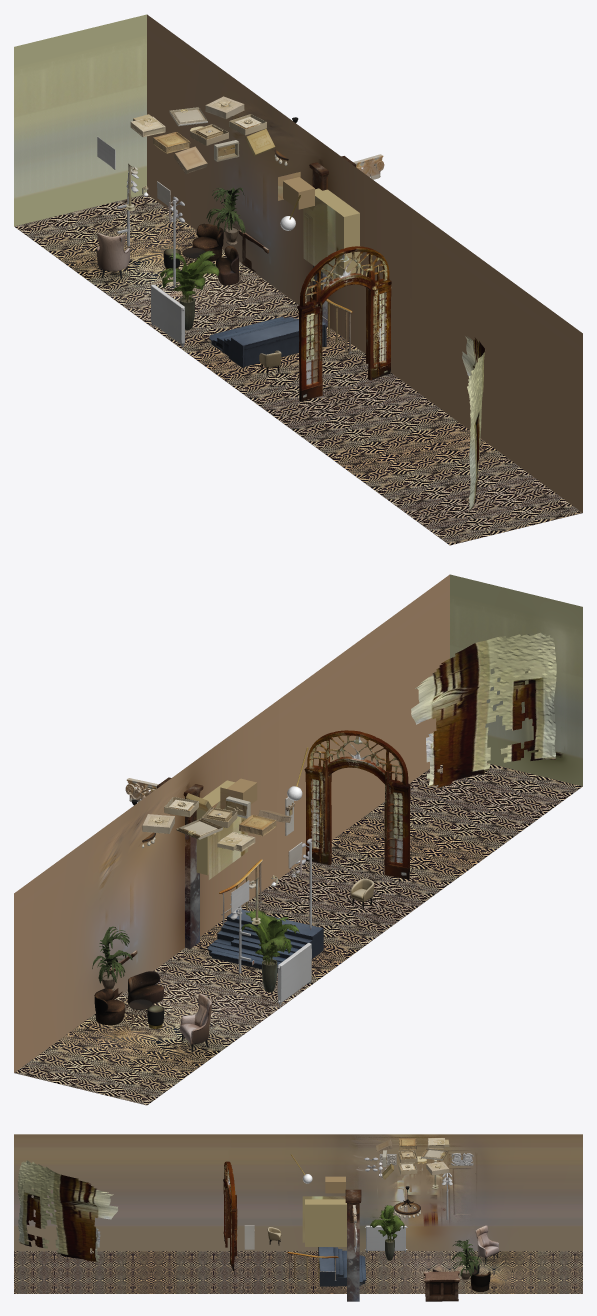
Rendered from scene_lite.glb.
3 renders of one model, top to bottom at view 1: azimuth 30°, elevation 25°; view 2: azimuth 150°, elevation 25°; view 3: azimuth 270°, elevation 25°, orthographic. The views are drawn at different scales.
Visible parts, largest first — view 1: room_wall_x_max, room_floor, room_wall_z_min, 027_mirror, 034_staircase, room_builtin_00_face, room_relief_00, 029_potted_plant, 030_radiator, room_builtin_00_body, 001_armchair, 028_plant (+4 smaller); view 2: room_wall_x_max, room_floor, room_relief_00, room_wall_z_max, 027_mirror, 034_staircase, 029_potted_plant, 043_wall_panel, 030_radiator, room_builtin_00_face, 028_plant, 001_armchair (+3 smaller); view 3: room_wall_x_min, room_floor, room_relief_00, room_builtin_00_body, 043_wall_panel, 034_staircase, 027_mirror, 022_console_table, 029_potted_plant, 030_radiator, 028_plant, 001_armchair (+9 smaller).
Boxes of the visible parts, x1=… form: room_wall_x_max: x1=147, y1=14, x2=582, y2=512; room_floor: x1=14, y1=195, x2=582, y2=545; room_wall_z_min: x1=14, y1=14, x2=146, y2=226; 027_mirror: x1=297, y1=246, x2=391, y2=401; 034_staircase: x1=209, y1=316, x2=326, y2=367; room_builtin_00_face: x1=303, y1=196, x2=342, y2=278; room_relief_00: x1=462, y1=336, x2=485, y2=511; 029_potted_plant: x1=160, y1=250, x2=219, y2=330; 030_radiator: x1=151, y1=284, x2=184, y2=347; room_builtin_00_body: x1=315, y1=188, x2=359, y2=274; 001_armchair: x1=97, y1=233, x2=130, y2=279; 028_plant: x1=206, y1=187, x2=245, y2=244; room_wall_x_max: x1=14, y1=574, x2=449, y2=1072; room_floor: x1=14, y1=763, x2=582, y2=1105; room_relief_00: x1=411, y1=632, x2=556, y2=787; room_wall_z_max: x1=450, y1=574, x2=582, y2=786; 027_mirror: x1=304, y1=730, x2=410, y2=879; 034_staircase: x1=207, y1=909, x2=323, y2=972; 029_potted_plant: x1=241, y1=910, x2=299, y2=992; 043_wall_panel: x1=156, y1=777, x2=203, y2=948; 030_radiator: x1=277, y1=943, x2=311, y2=1005; room_builtin_00_face: x1=208, y1=801, x2=247, y2=879; 028_plant: x1=92, y1=926, x2=132, y2=990; 001_armchair: x1=180, y1=993, x2=211, y2=1052; room_wall_x_min: x1=14, y1=1134, x2=582, y2=1251; room_floor: x1=14, y1=1251, x2=582, y2=1293; room_relief_00: x1=17, y1=1160, x2=117, y2=1262; room_builtin_00_body: x1=305, y1=1199, x2=346, y2=1246; 043_wall_panel: x1=345, y1=1189, x2=361, y2=1301; 034_staircase: x1=318, y1=1247, x2=366, y2=1286; 027_mirror: x1=223, y1=1161, x2=237, y2=1271; 022_console_table: x1=423, y1=1271, x2=460, y2=1301; 029_potted_plant: x1=370, y1=1205, x2=404, y2=1260; 030_radiator: x1=365, y1=1225, x2=407, y2=1252; 028_plant: x1=451, y1=1239, x2=481, y2=1281; 001_armchair: x1=475, y1=1225, x2=499, y2=1263.
Bounding box in the file's own units: 1.62 × 1.41 × 6.18.
54 materials, 54 textured.
